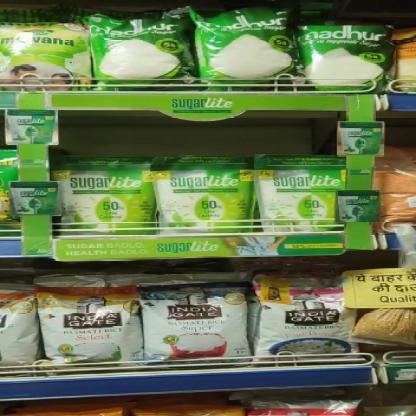SUGARLITE POUCH 500G: (53, 154, 154, 235), (161, 156, 253, 230), (258, 160, 346, 232)
